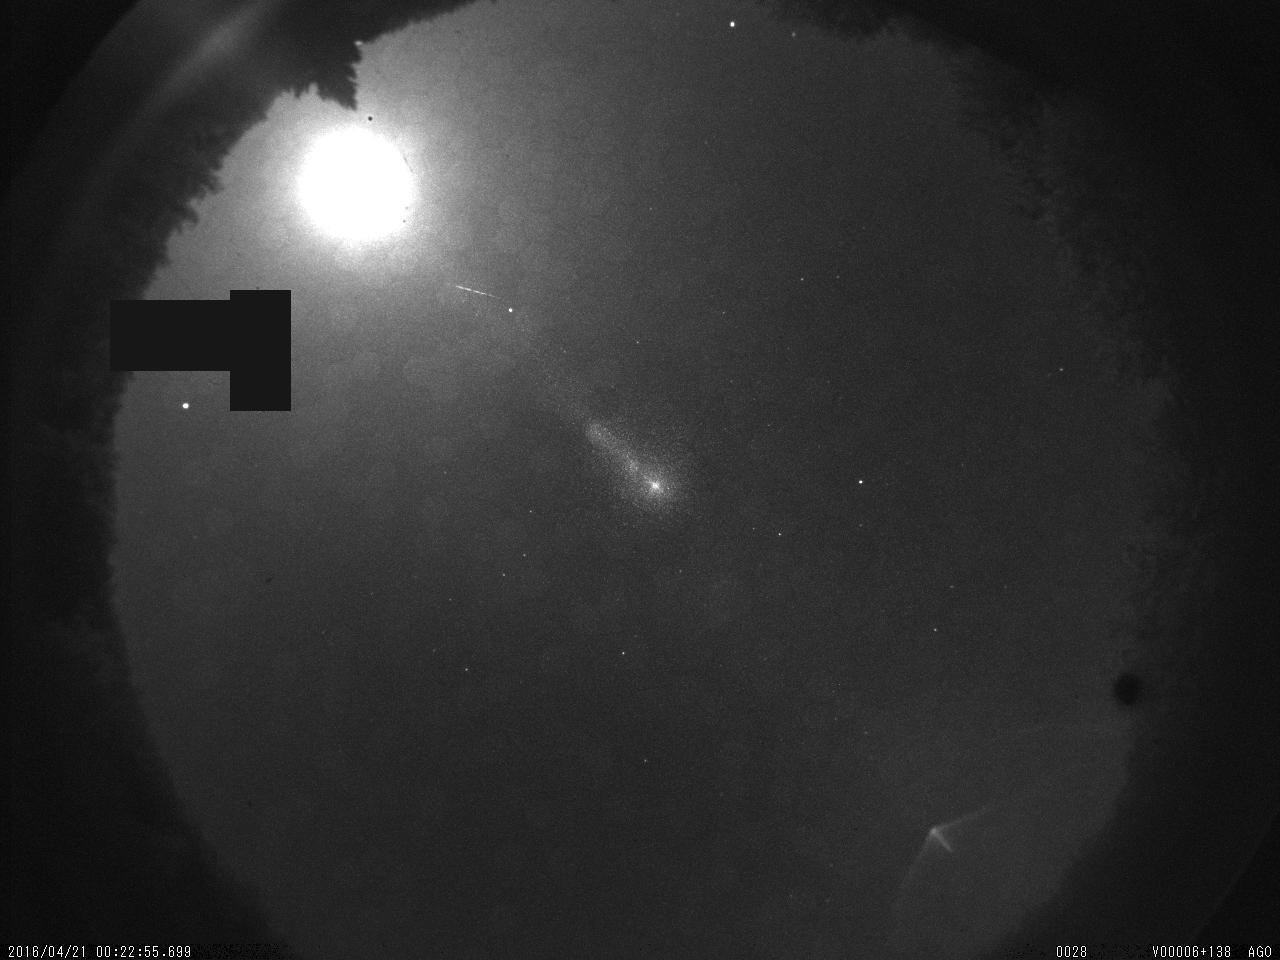Meteor: (439, 269, 504, 308)
